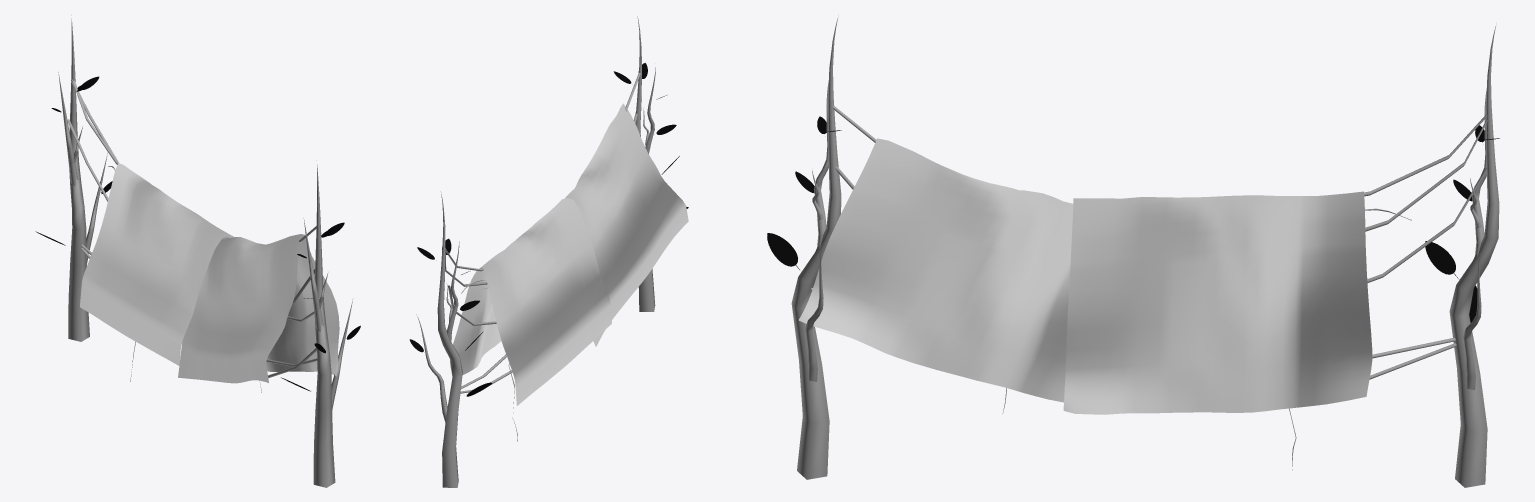
Rendered from etendoire.fbx.
The picture shows the model from 3 angles, left to right: view 1: azimuth 30°, elevation 25°; view 2: azimuth 150°, elevation 25°; view 3: azimuth 270°, elevation 25°; orthographic projection. The views are drawn at different scales.
Visible parts, largest first — view 1: etendoire1; view 2: etendoire1; view 3: etendoire1.
Boxes of the visible parts, x1,y1,x2,y2 form: etendoire1: (35,15,360,487); etendoire1: (409,16,688,487); etendoire1: (767,17,1499,487).
Bounding box in the file's own units: 99.22 × 283 × 417.
